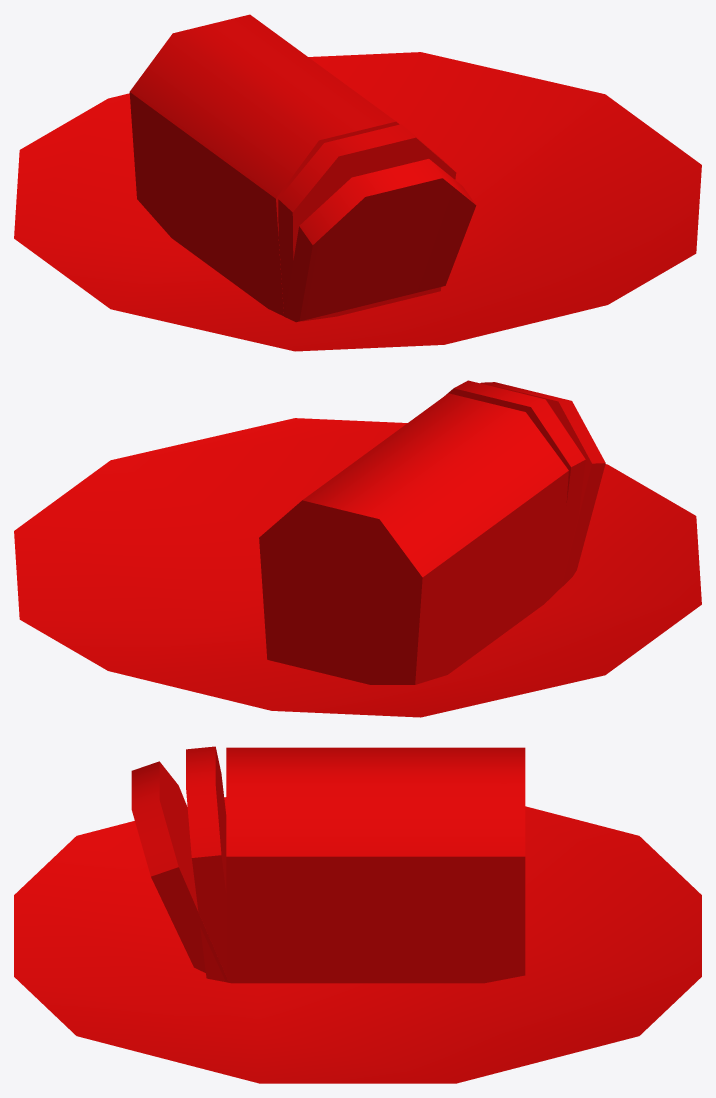
File: brød_FBX.fbx
The picture shows the model from 3 angles, top to bottom: view 1: azimuth 30°, elevation 25°; view 2: azimuth 150°, elevation 25°; view 3: azimuth 270°, elevation 25°; orthographic projection. The views are drawn at different scales.
Parts seen in each view (by area): view 1: pPlane6, pCube101, pCube103, pCube102; view 2: pPlane6, pCube101, pCube102, pCube103; view 3: pPlane6, pCube101, pCube103, pCube102.
Part boxes in pixels (box(x1,y1,x2,y2)): pPlane6: box(14, 52, 701, 351); pCube101: box(129, 14, 399, 316); pCube103: box(284, 159, 476, 322); pCube102: box(278, 124, 456, 321); pPlane6: box(14, 418, 701, 717); pCube101: box(259, 393, 568, 684); pCube102: box(446, 380, 585, 587); pCube103: box(480, 382, 605, 587); pPlane6: box(14, 797, 701, 1083); pCube101: box(226, 747, 525, 983); pCube103: box(131, 761, 228, 982); pCube102: box(186, 746, 226, 981).
Bounding box in the file's own units: 0.7261 × 0.2142 × 0.7155.
